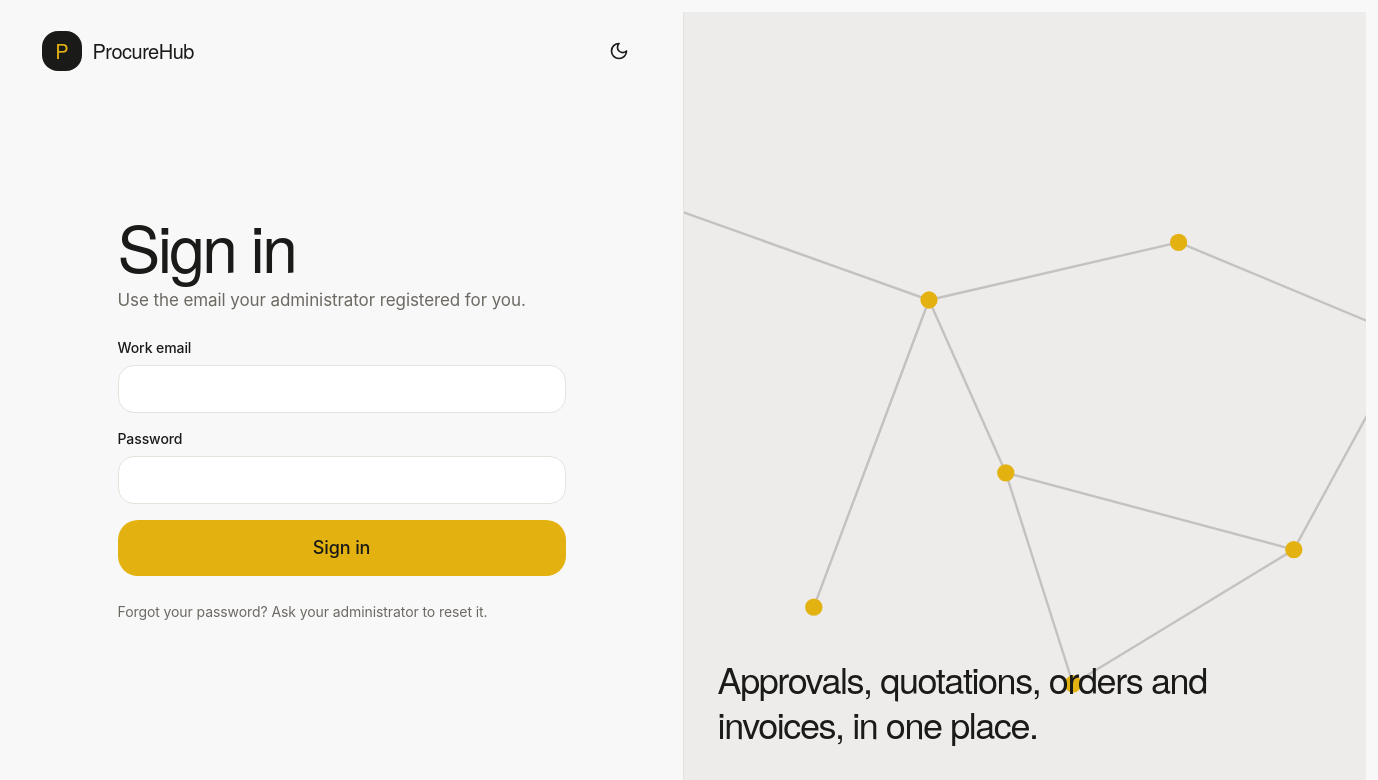
it: login page › shows the server message for wrong credentials
In the field labelled "Work email": (342,389) [118,365,566,413], type "person@example.com"
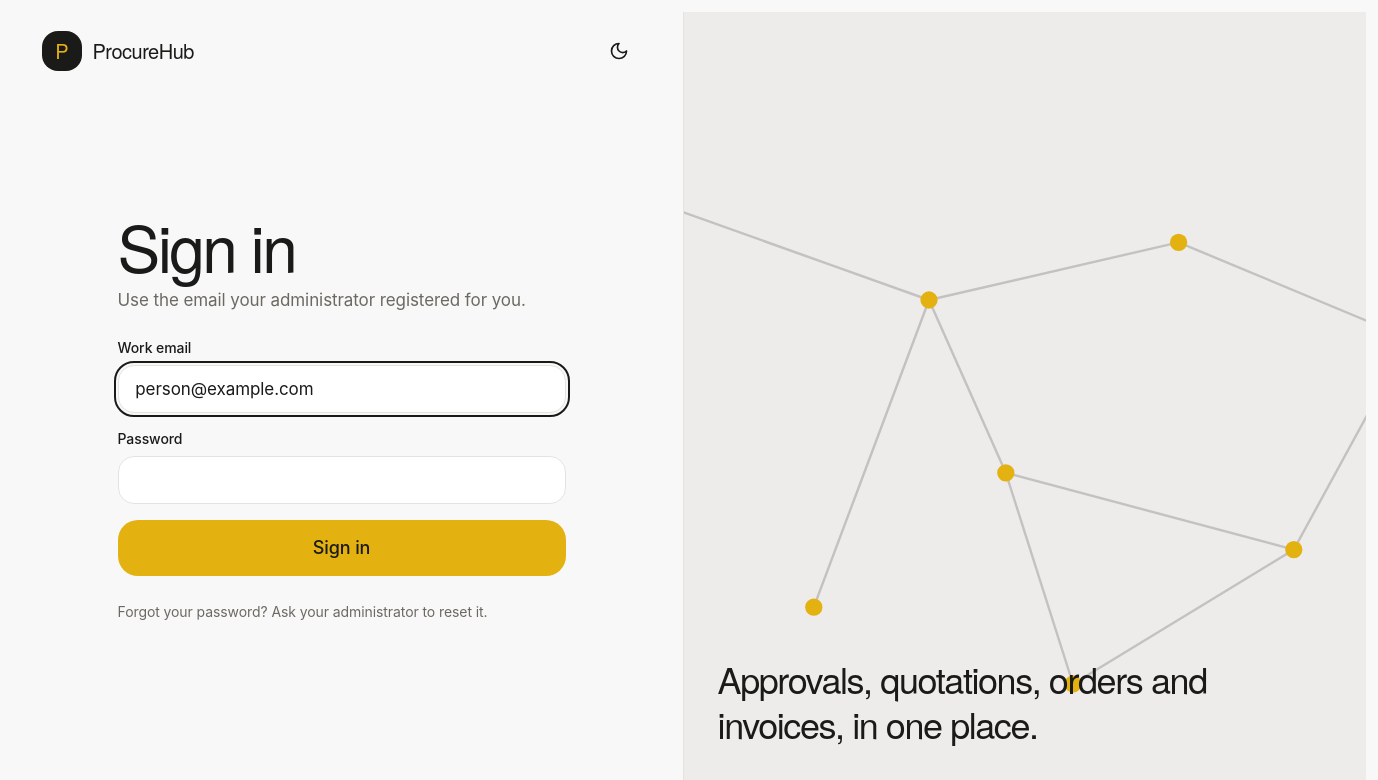
In the password field labelled "Password": (342,480) [118,456,566,504], type "a-long-password-1"
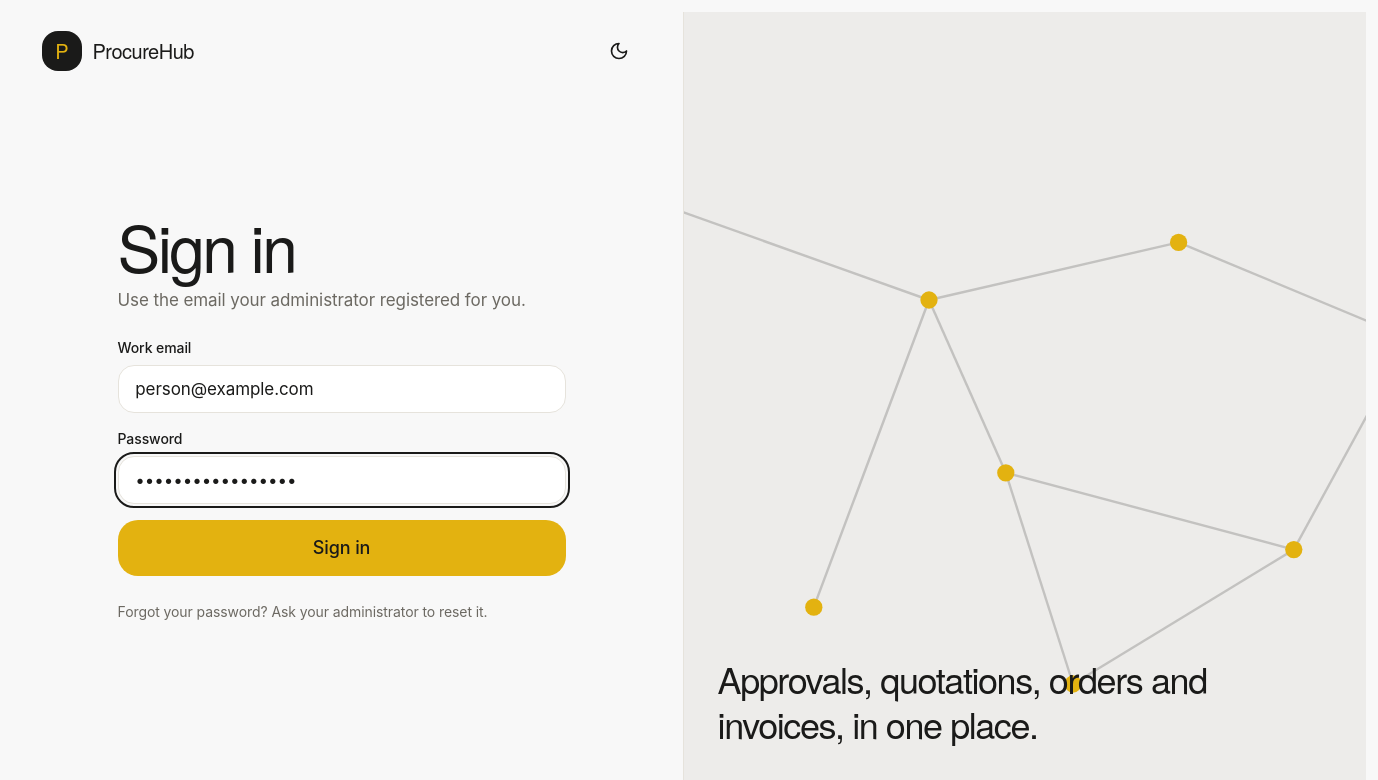
Click the button "Sign in": (342,548) [118,520,566,576]
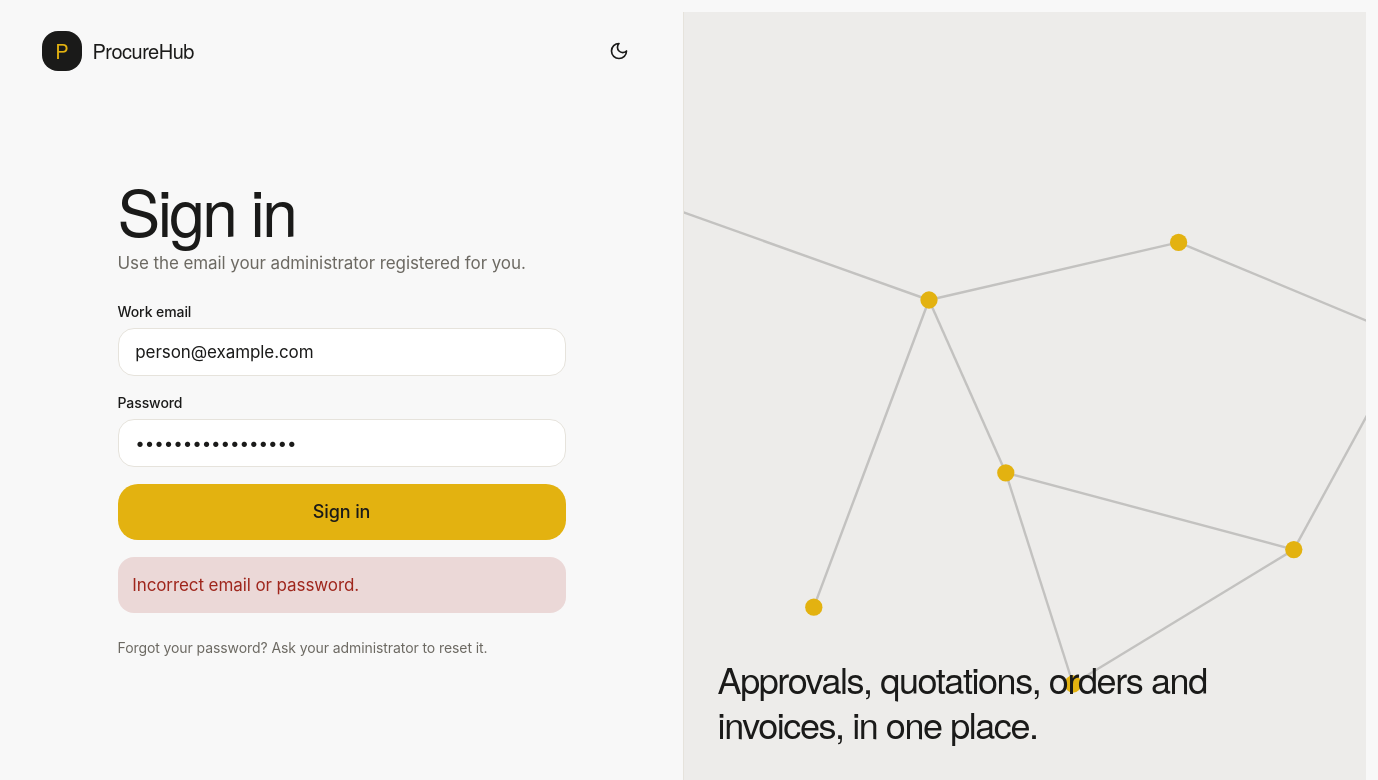
Now the message reads "Incorrect email or password.", box [132,575,359,595]
